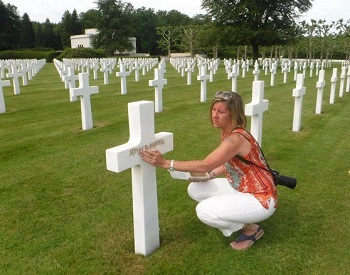Person: (134, 89, 307, 251)
